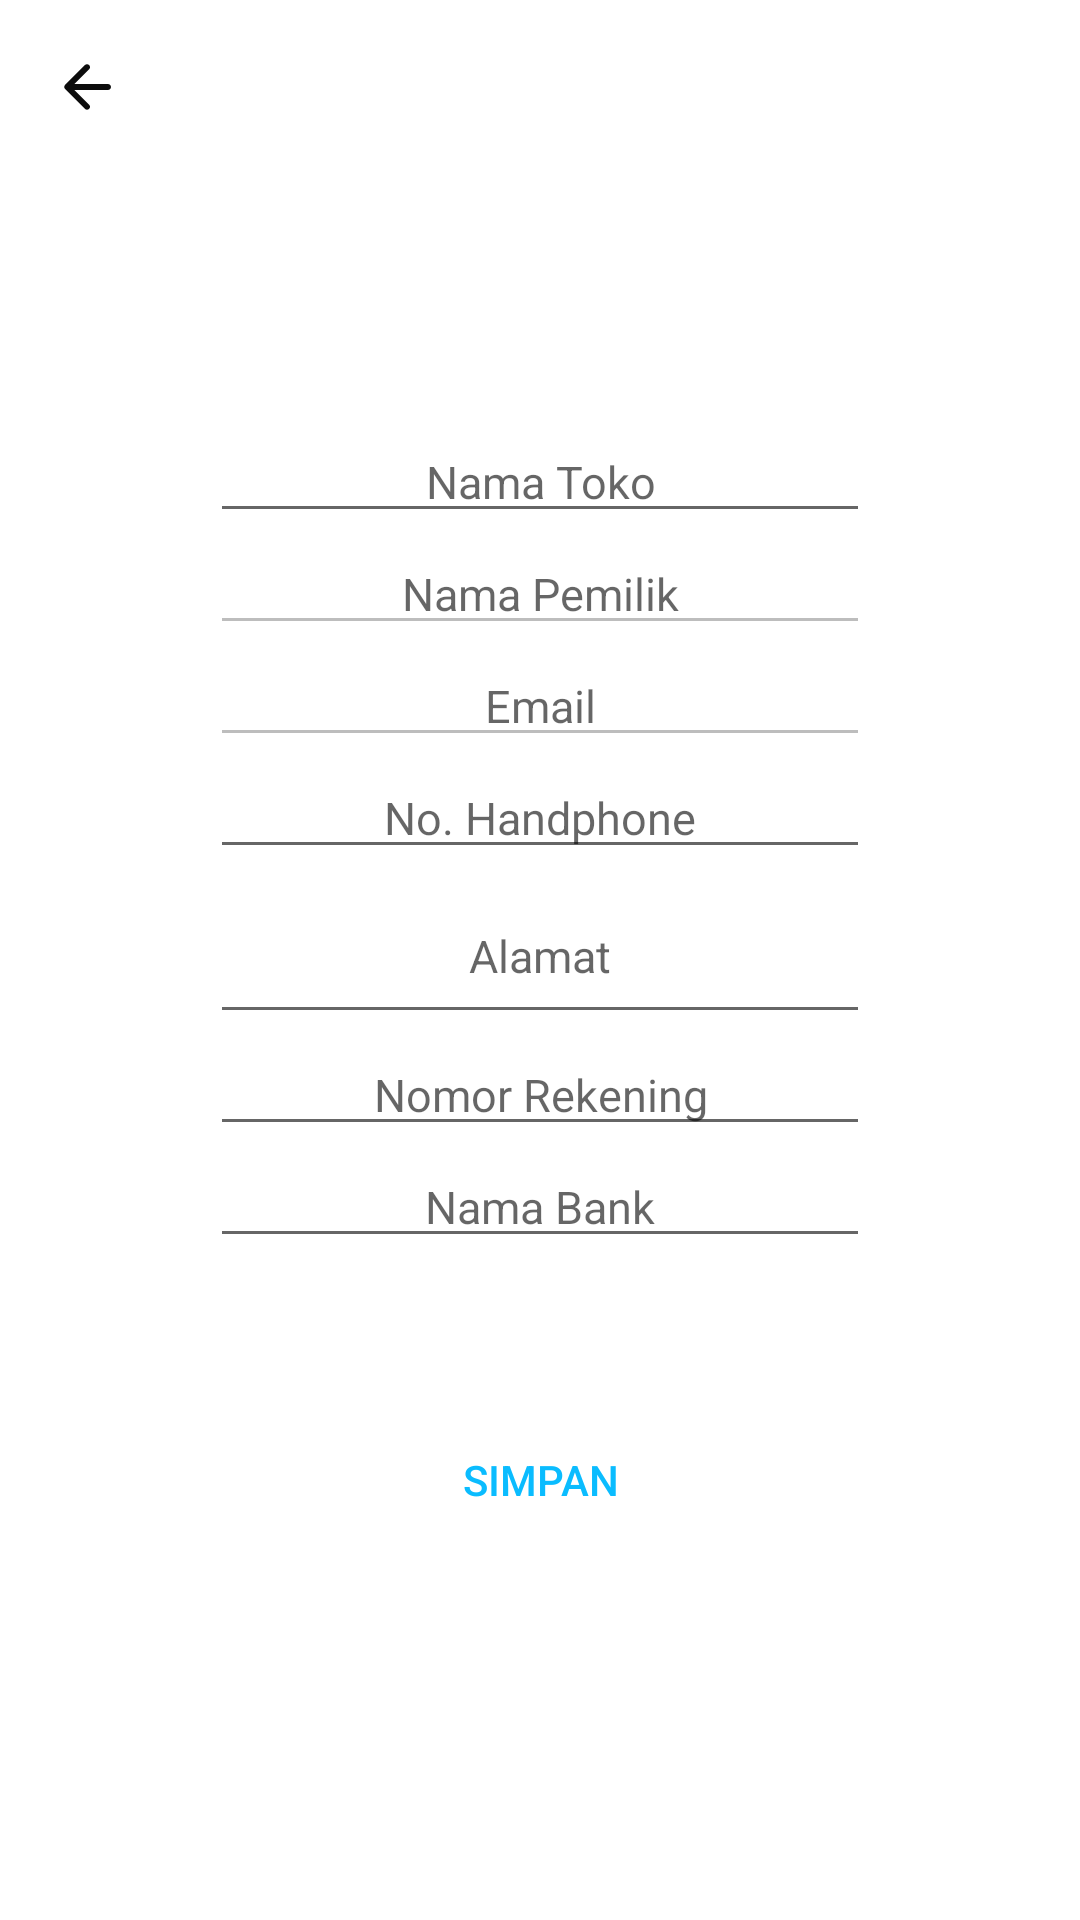

Point at icon controls on the screen. Image size 1080w x 1920h, points as [x,y].
back: [87,87]
